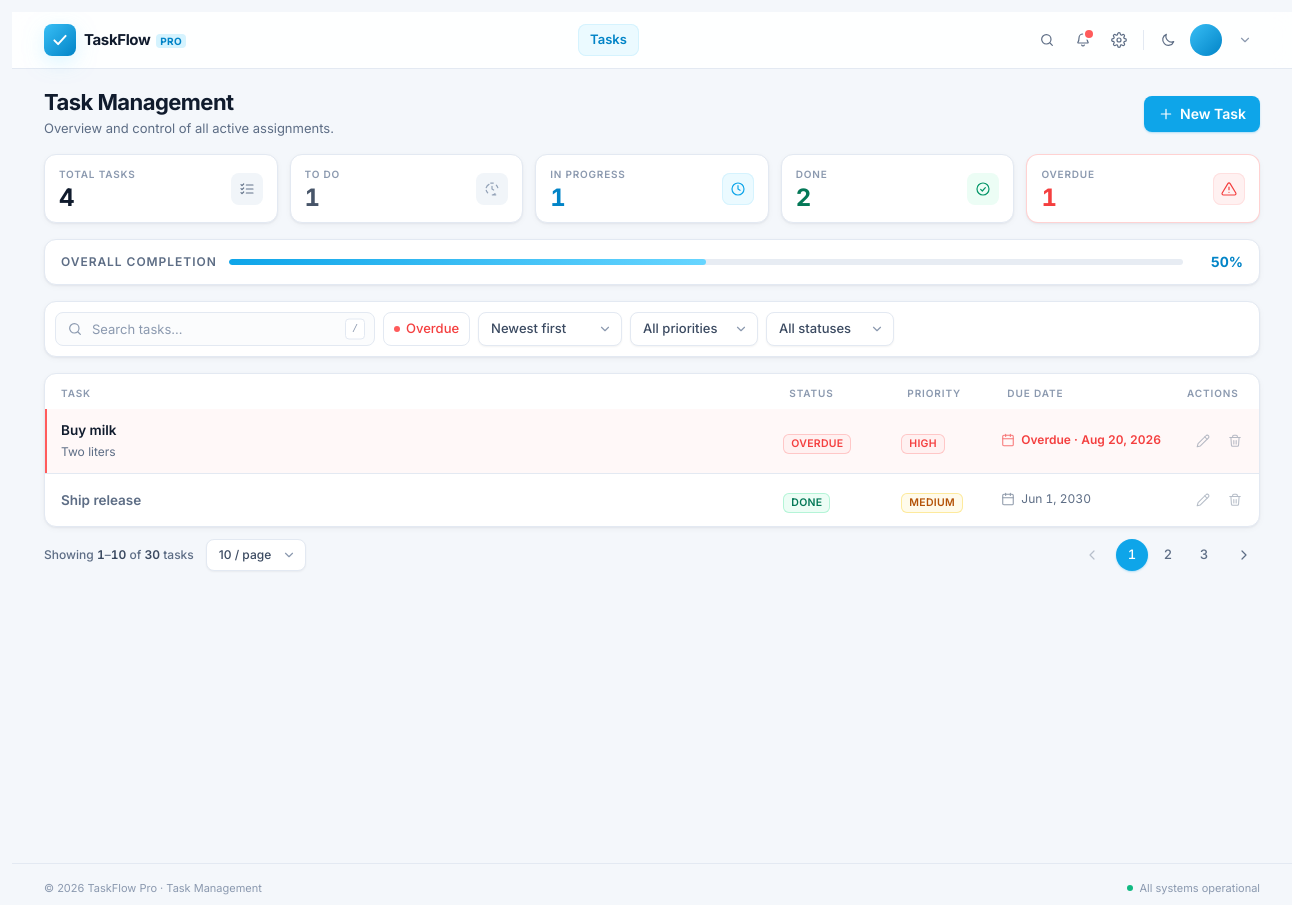
Scenario: DashboardPage - query interactions › requests page 2 through the pagination controls
Expected: the heading "Buy milk" is shown, [61, 422, 116, 438]
Expected: the element with test id "showing-range" reads "Showing 1–10 of 30 tasks", [44, 547, 194, 563]
Click the button named "Next page": (1244, 555) [1228, 539, 1260, 571]
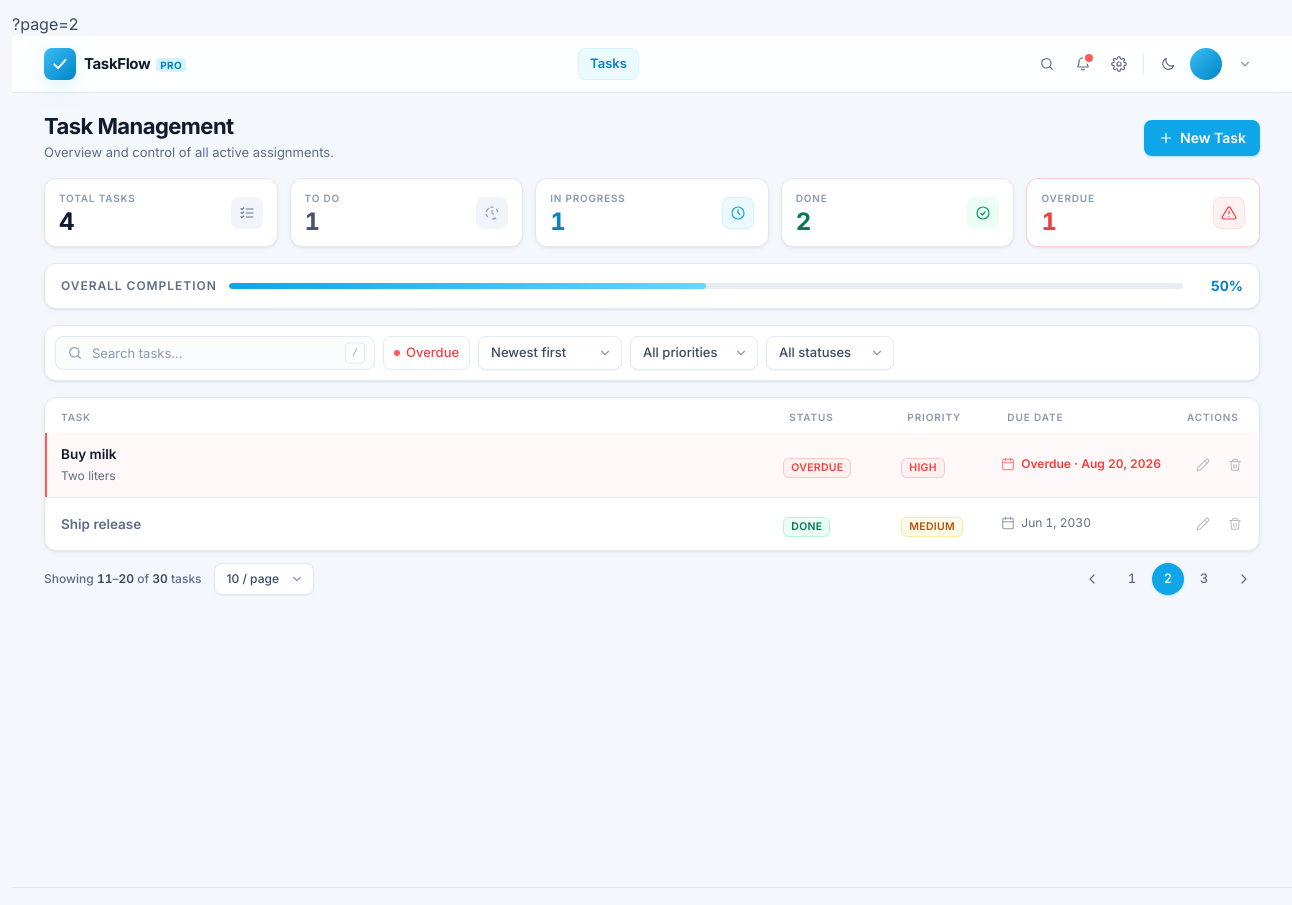
Now the text with test id "url-probe" shows "page=2", box [12, 14, 79, 34]
Now the element with test id "showing-range" reads "Showing 11–20 of 30 tasks", box [44, 571, 202, 587]
